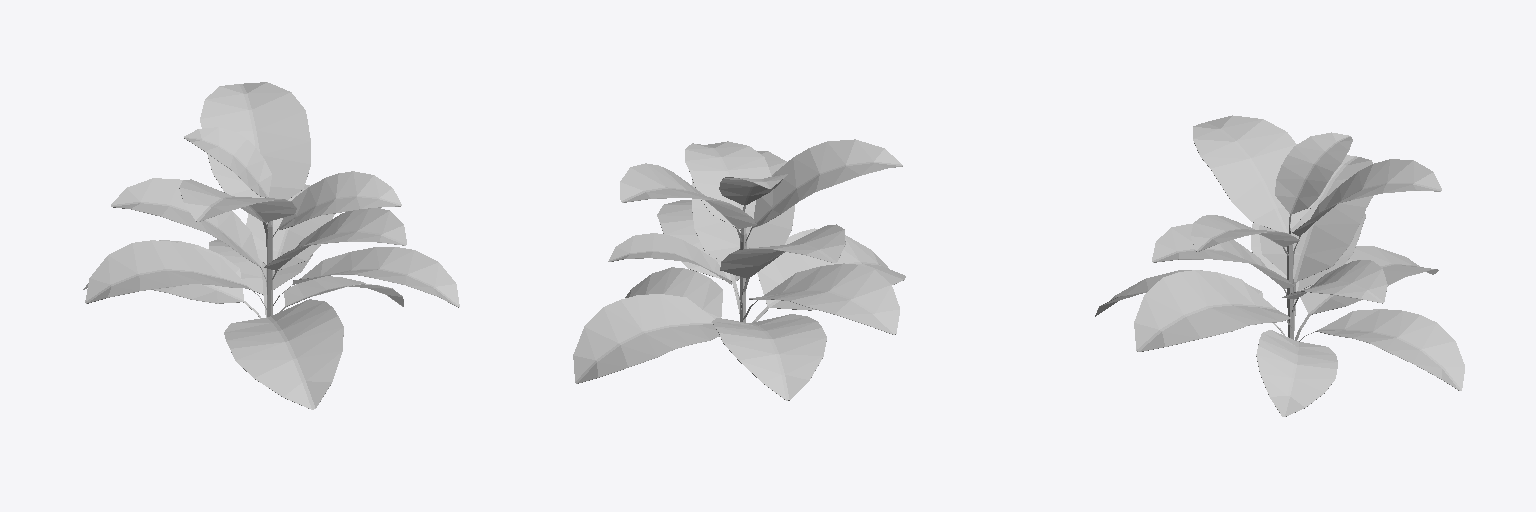
File: Arbusto.obj
3 renders of one model, left to right at view 1: azimuth 30°, elevation 25°; view 2: azimuth 150°, elevation 25°; view 3: azimuth 270°, elevation 25°, orthographic.
Visible parts, largest first — view 1: Arbusto_Nature_Mat_01.010; view 2: Arbusto_Nature_Mat_01.010; view 3: Arbusto_Nature_Mat_01.010.
Boxes of the visible parts, box(x1,y1,x2,y2) form: Arbusto_Nature_Mat_01.010: box(83, 82, 459, 409); Arbusto_Nature_Mat_01.010: box(573, 139, 905, 400); Arbusto_Nature_Mat_01.010: box(1095, 115, 1464, 416).
Bounding box in the file's own units: 9.85 × 6.67 × 10.61.